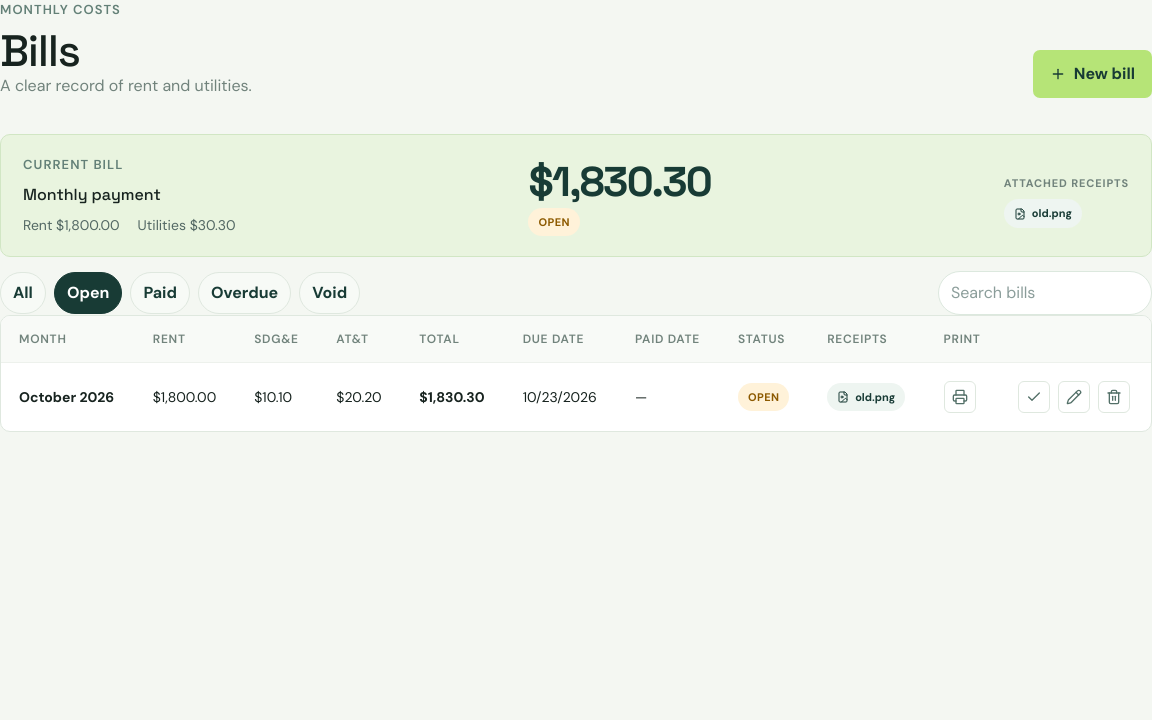
Test: billing presentation › preserves form input and shows a failed save instead of claiming success
Click the button "New bill". click: (1092, 74)
box: left=1033, top=50, right=1151, bottom=98
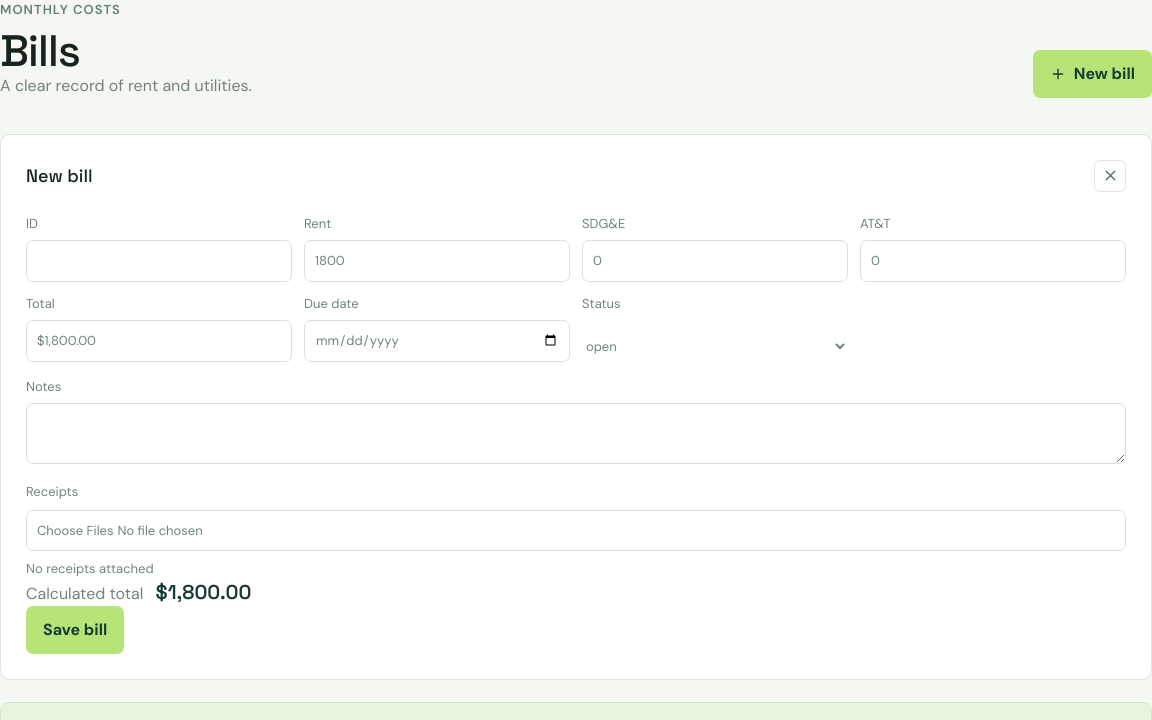
Type "Keep this draft" into the text box labelled "Notes". click: (576, 434)
box: left=26, top=403, right=1126, bottom=464
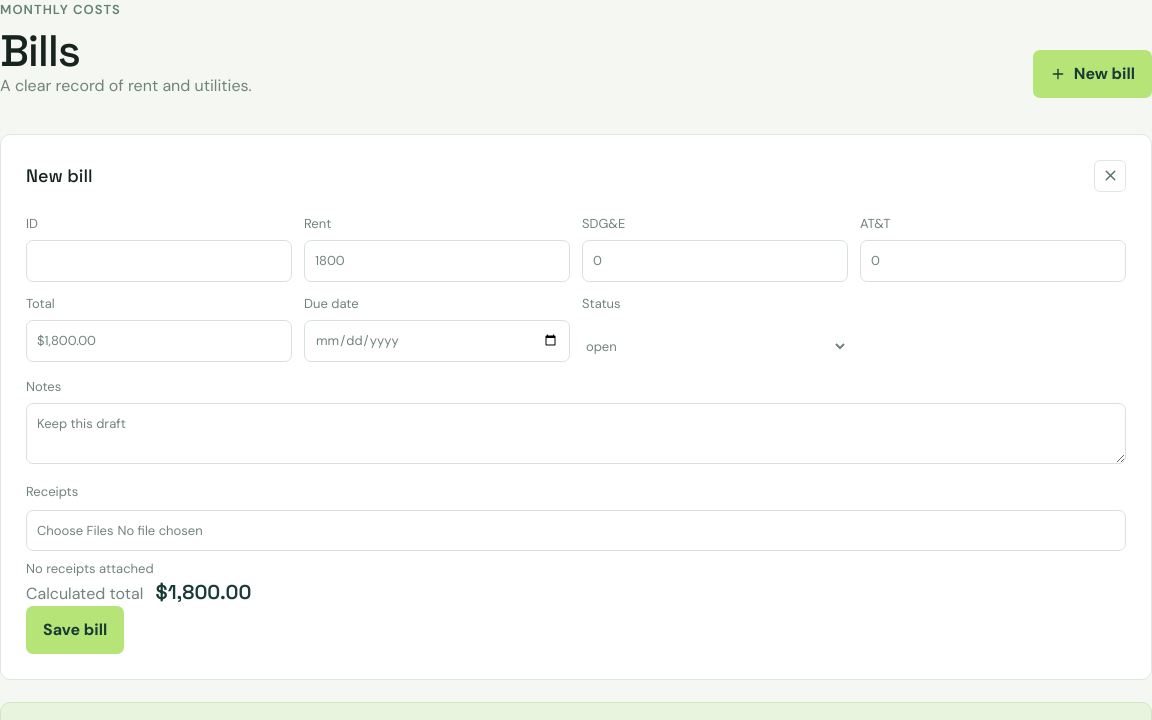
Click the button "Save bill". click: (75, 630)
box: left=26, top=606, right=124, bottom=654
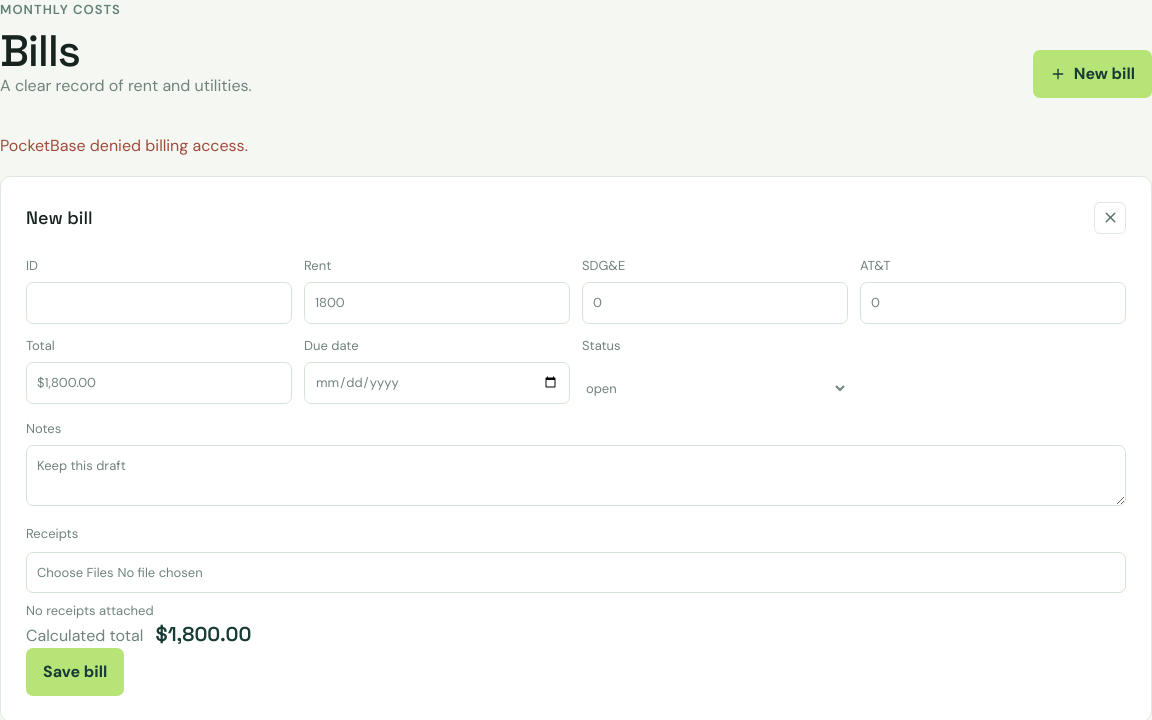
Now the text "PocketBase denied billing access." is shown, box left=0, top=135, right=248, bottom=156
